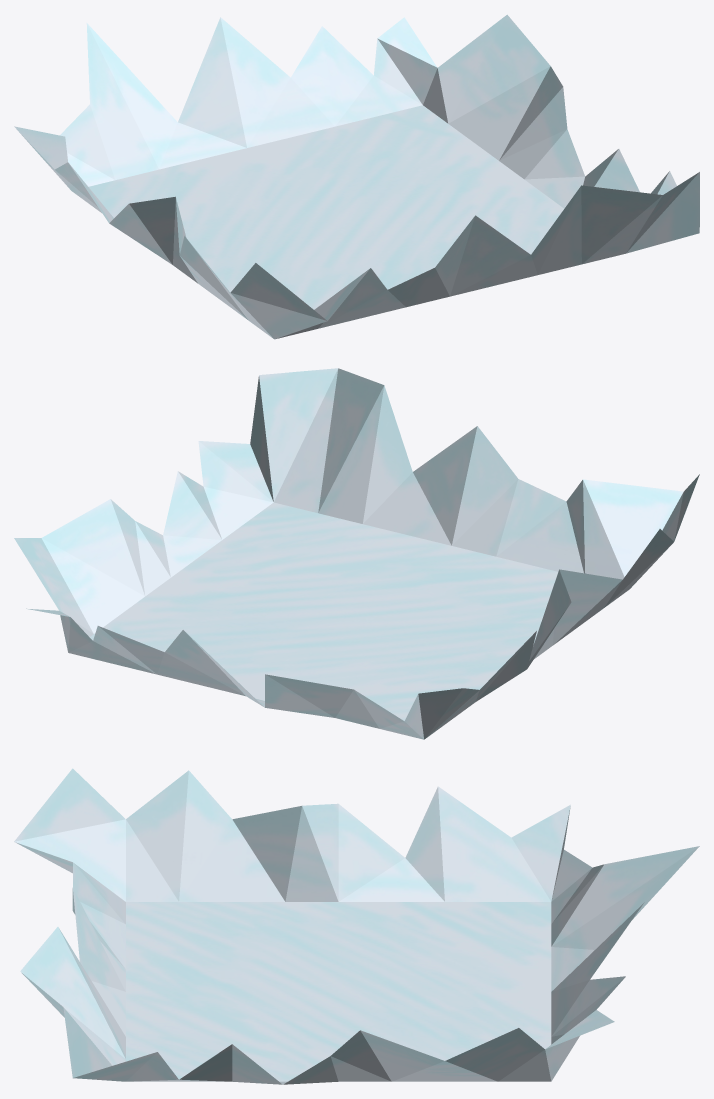
File: Terrain.fbx
The picture shows the model from 3 angles, top to bottom: view 1: azimuth 30°, elevation 25°; view 2: azimuth 150°, elevation 25°; view 3: azimuth 270°, elevation 25°; orthographic projection. The views are drawn at different scales.
Parts seen in each view (by area): view 1: pPlane1; view 2: pPlane1; view 3: pPlane1.
Part boxes in pixels (left/top/right/bottom): pPlane1: left=14, top=14, right=699, bottom=339; pPlane1: left=14, top=368, right=699, bottom=739; pPlane1: left=14, top=768, right=699, bottom=1084.
Size of the model in its own units: 1112 by 241 by 1290.
